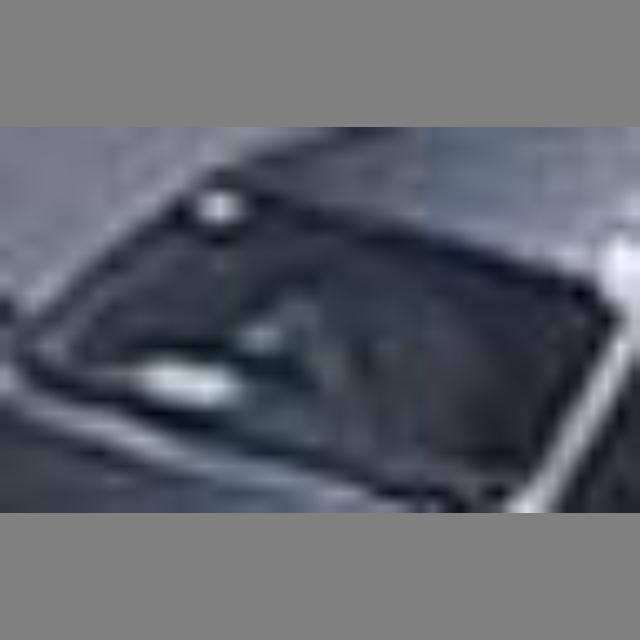pakai: (240, 247, 507, 474)
